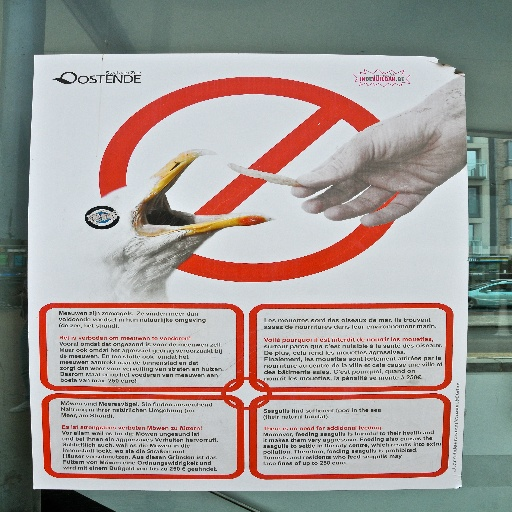hand: (296, 109, 480, 217)
